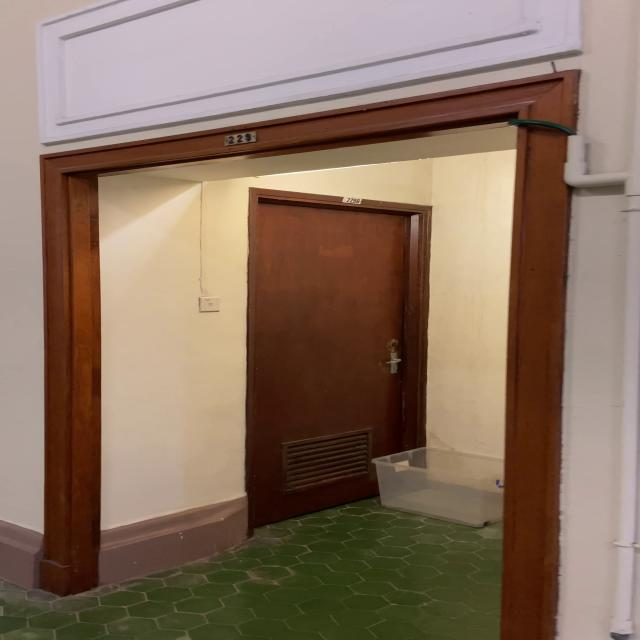room229: (220, 130, 258, 147)
